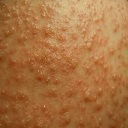Pemphigoid: (5, 14, 122, 121)
